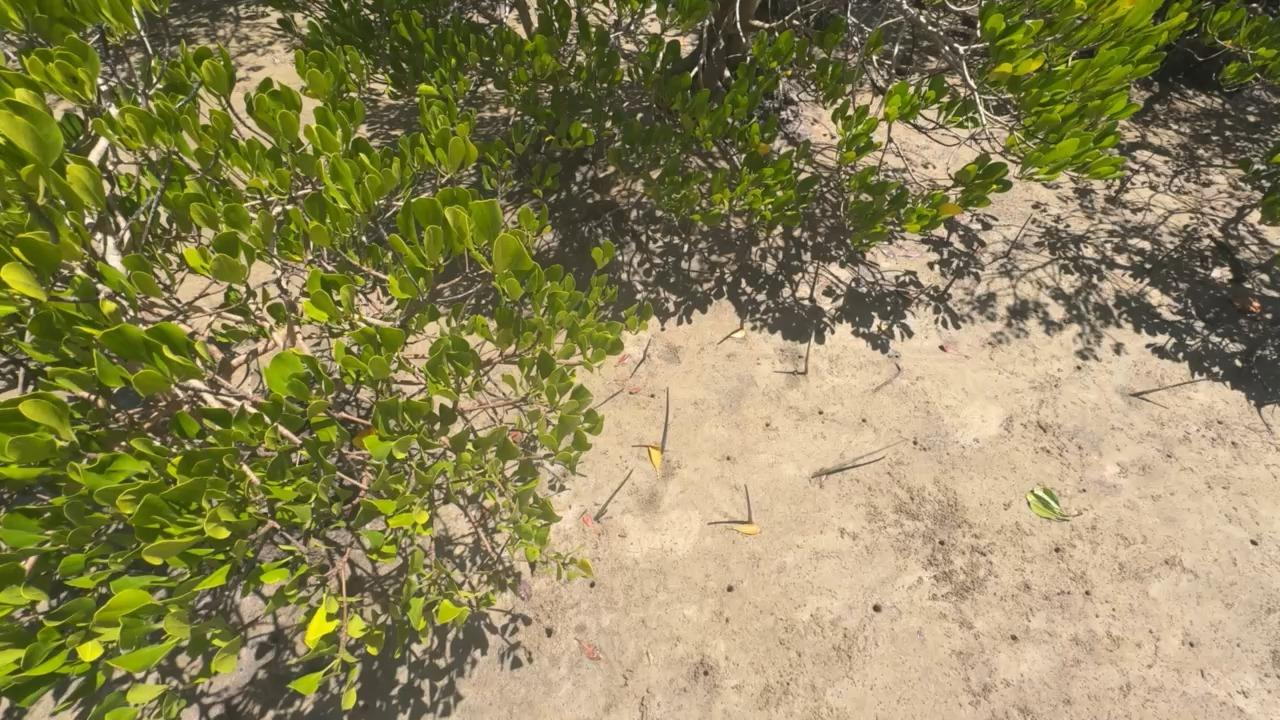Tree: (593, 469, 634, 520), (941, 244, 979, 295), (1128, 376, 1220, 396), (811, 457, 884, 477), (1006, 213, 1032, 257), (660, 387, 670, 451), (804, 325, 813, 374), (744, 484, 753, 524), (644, 338, 652, 358)
